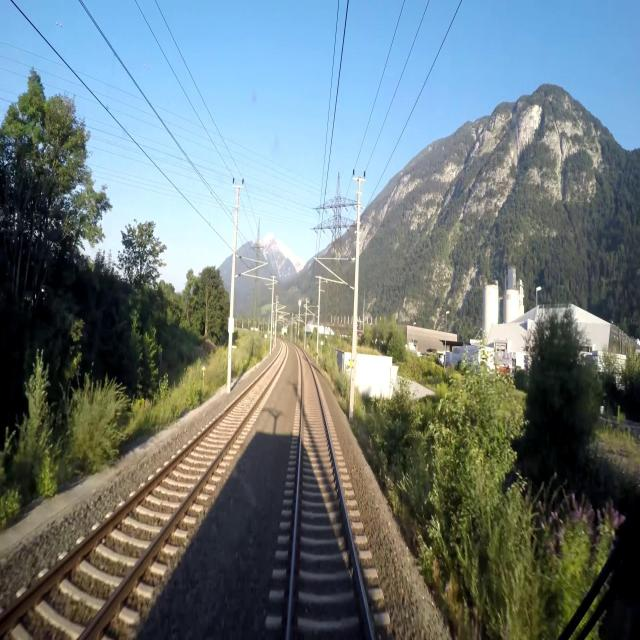rail-track: (0, 345, 285, 639), (291, 351, 370, 639)
